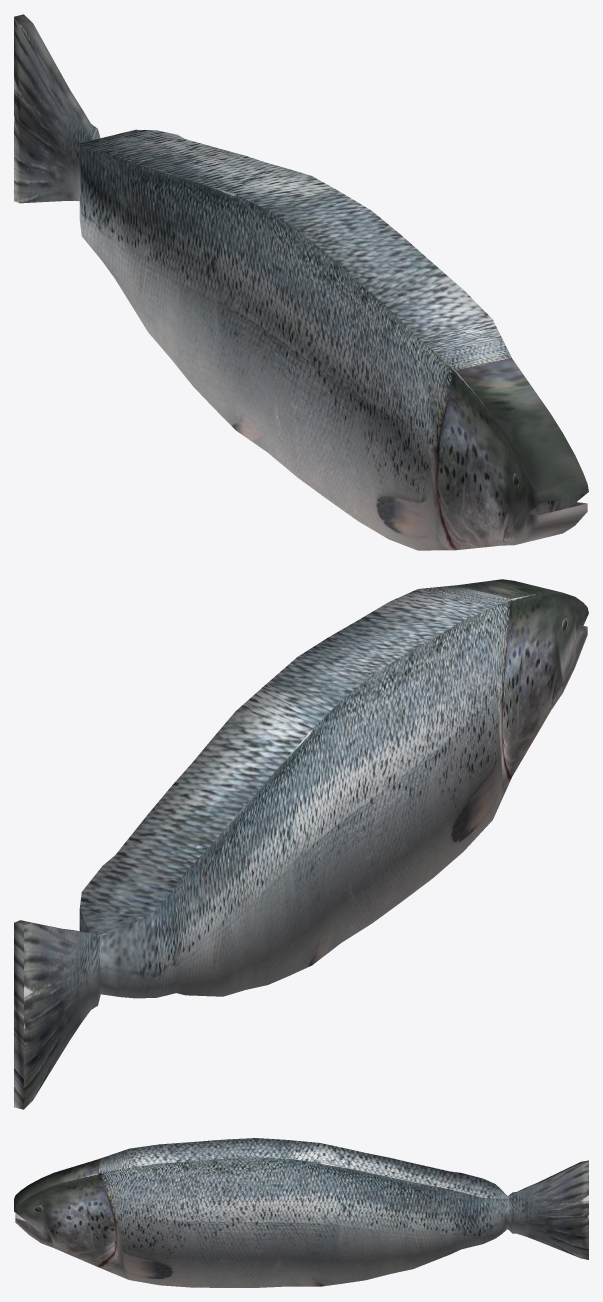
Rendered from fish_salamon.fbx.
The picture shows the model from 3 angles, top to bottom: view 1: azimuth 30°, elevation 25°; view 2: azimuth 150°, elevation 25°; view 3: azimuth 270°, elevation 25°; orthographic projection. The views are drawn at different scales.
Visible parts, largest first — view 1: Salamon; view 2: Salamon; view 3: Salamon.
Boxes of the visible parts, x1,y1,x2,y2 form: Salamon: (14, 14, 588, 550); Salamon: (14, 579, 588, 1109); Salamon: (14, 1138, 588, 1287).
Bounding box in the file's own units: 36.16 × 112 × 448.
